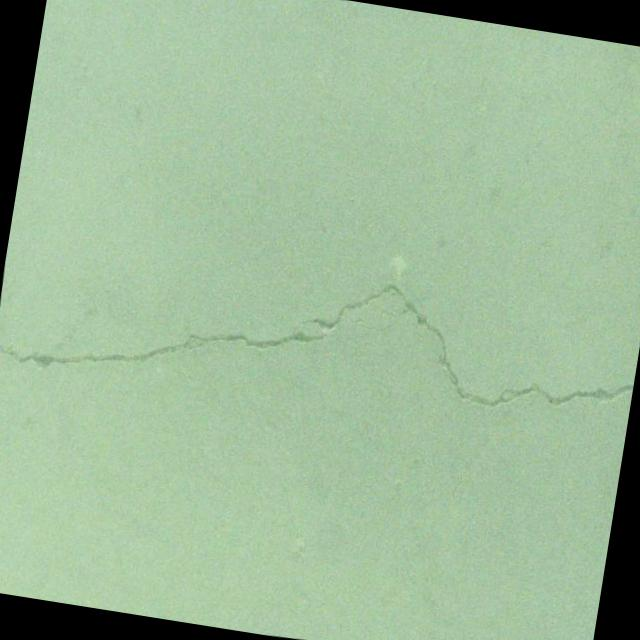crack: (0, 216, 640, 463)
